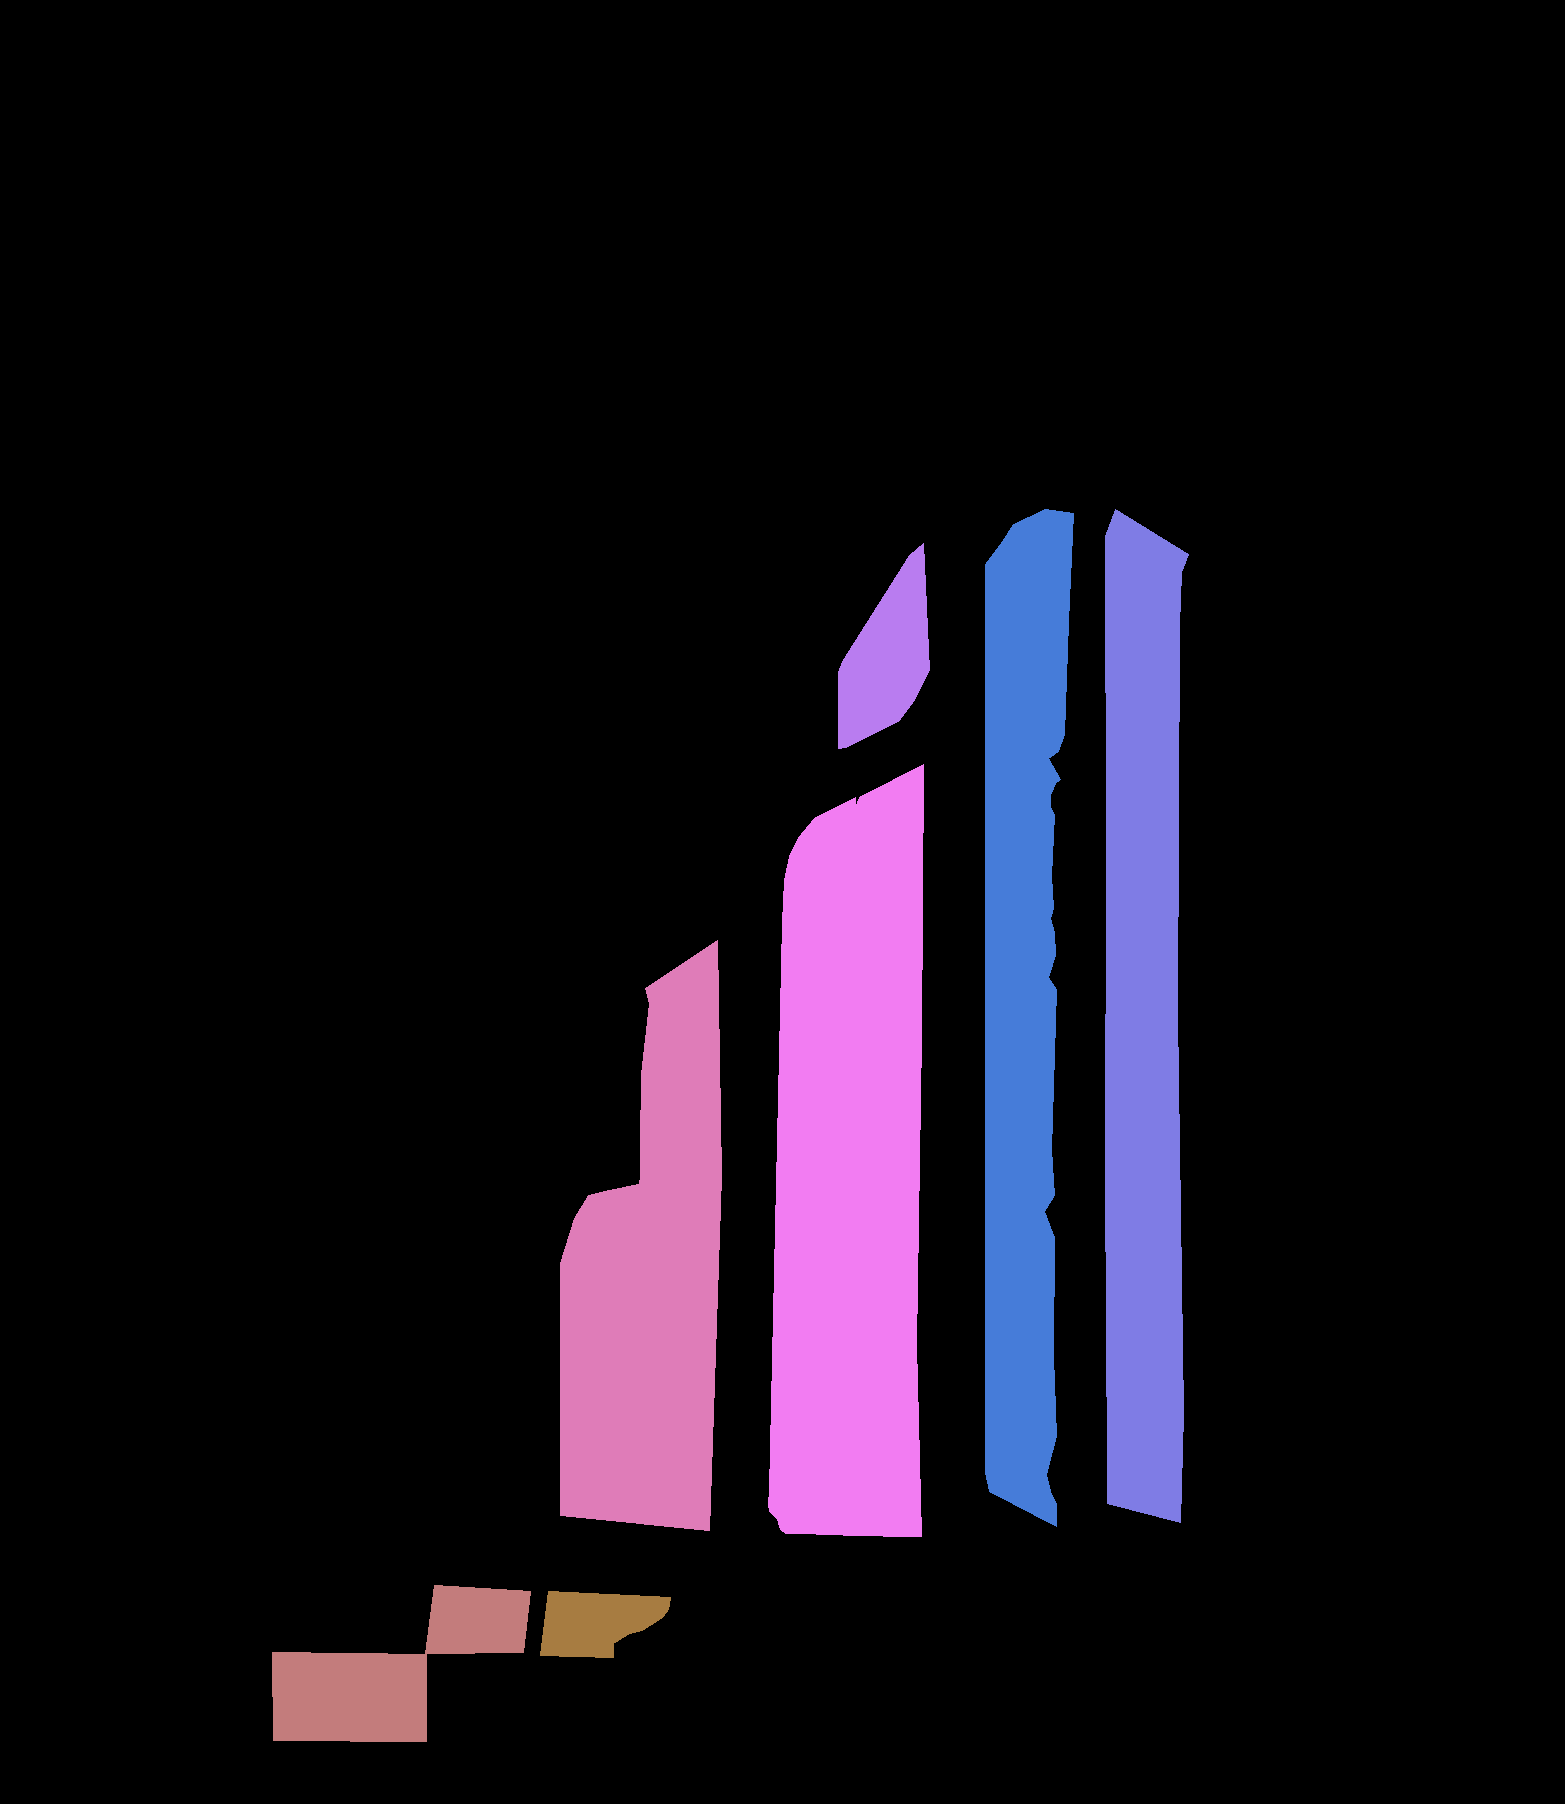parkingspot: (49, 0, 1563, 1801), (985, 509, 1072, 1526), (1105, 509, 1188, 1522), (769, 798, 855, 1534), (842, 764, 924, 1536), (638, 940, 721, 1529), (937, 430, 1191, 558), (560, 1184, 641, 1523), (838, 543, 928, 749), (272, 1652, 427, 1741), (802, 726, 893, 827), (540, 1591, 670, 1657), (425, 1585, 529, 1654)
